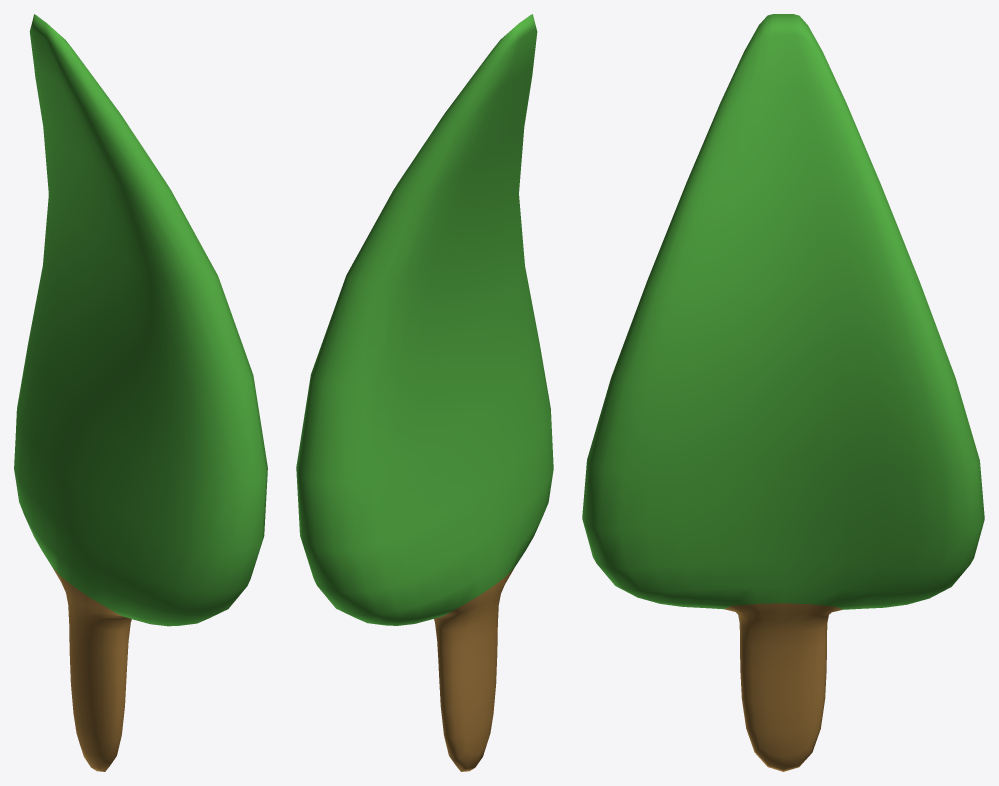
File: leaf.fbx
3 renders of one model, left to right at view 1: azimuth 30°, elevation 25°; view 2: azimuth 150°, elevation 25°; view 3: azimuth 270°, elevation 25°, orthographic. The views are drawn at different scales.
Visible parts, largest first — view 1: Cube; view 2: Cube; view 3: Cube.
Part boxes in pixels (box(x1,y1,x2,y2)): Cube: box(14, 14, 267, 771); Cube: box(296, 14, 553, 771); Cube: box(582, 14, 984, 771).
Bounding box in the file's own units: 0.3726 × 1.98 × 0.9845.
